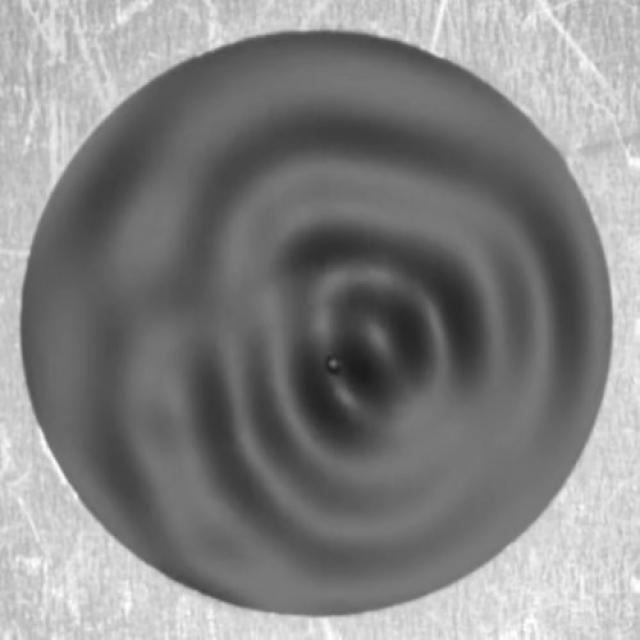droplet: (326, 354, 346, 378)
